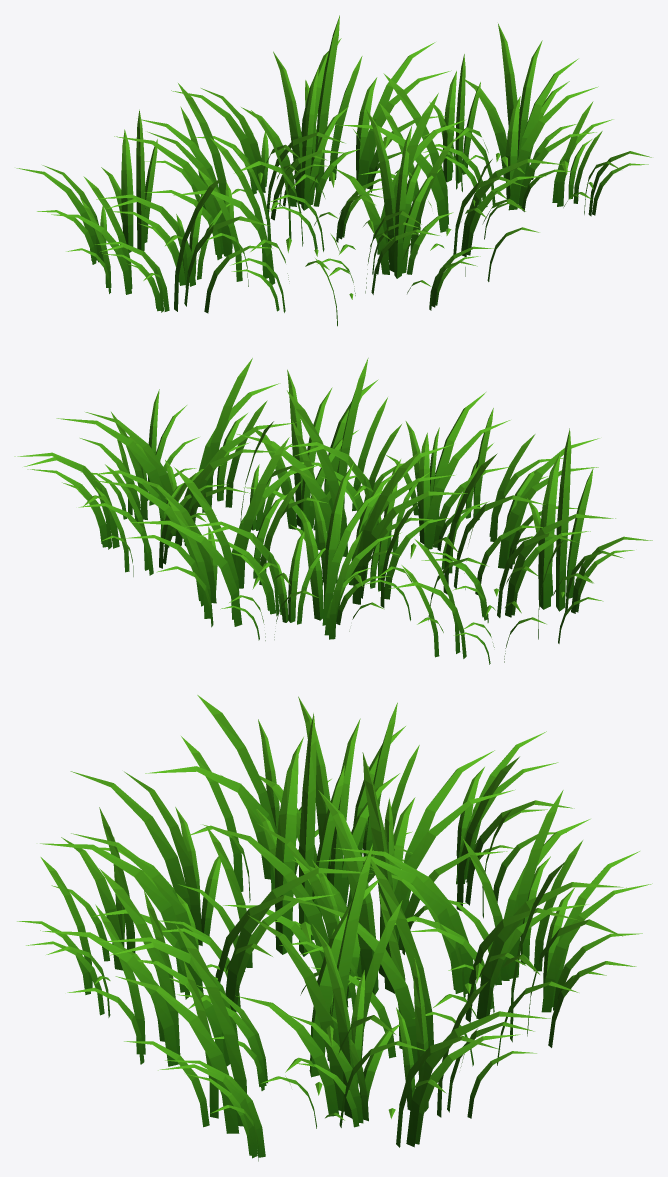
Rendered from stylized_grass.glb.
3 renders of one model, top to bottom at view 1: azimuth 30°, elevation 25°; view 2: azimuth 150°, elevation 25°; view 3: azimuth 270°, elevation 25°, orthographic. The views are drawn at different scales.
Parts seen in each view (by area): view 1: default 7, default 12, default 24, default 22, default 39, default 11, default 16, default 2, default 33, default 25, default 8, default 26 (+20 smaller); view 2: default 38, default 9, default, default 16, default 13, default 8, default 15, default 27, default 5, default 11, default 24, default 37 (+29 smaller); view 3: default 21, default 2, default 27, default 6, default 13, default 34, default 15, default 25, default 33, default 1, default, default 38 (+26 smaller).
Boxes of the visible parts, left/top/right/bottom form: default 7: left=334, top=109, right=453, bottom=278; default 12: left=241, top=51, right=360, bottom=210; default 24: left=505, top=58, right=598, bottom=211; default 22: left=465, top=23, right=576, bottom=179; default 39: left=101, top=109, right=157, bottom=252; default 11: left=356, top=42, right=451, bottom=192; default 16: left=301, top=15, right=362, bottom=191; default 2: left=173, top=137, right=275, bottom=286; default 33: left=114, top=131, right=234, bottom=259; default 25: left=336, top=73, right=448, bottom=232; default 8: left=377, top=93, right=466, bottom=259; default 26: left=434, top=54, right=480, bottom=183; default 38: left=527, top=428, right=593, bottom=611; default 9: left=300, top=462, right=401, bottom=625; default: left=418, top=392, right=510, bottom=551; default 16: left=131, top=467, right=242, bottom=627; default 13: left=352, top=452, right=467, bottom=607; default 8: left=237, top=390, right=347, bottom=562; default 15: left=232, top=437, right=320, bottom=588; default 27: left=198, top=358, right=280, bottom=512; default 5: left=252, top=369, right=364, bottom=531; default 11: left=93, top=475, right=217, bottom=606; default 24: left=56, top=412, right=176, bottom=535; default 37: left=494, top=514, right=615, bottom=617; default 21: left=235, top=915, right=399, bottom=1118; default 2: left=256, top=713, right=344, bottom=956; default 27: left=115, top=925, right=246, bottom=1133; default 6: left=40, top=868, right=180, bottom=1066; default 13: left=292, top=752, right=395, bottom=994; default 34: left=70, top=771, right=220, bottom=945; default 15: left=309, top=859, right=433, bottom=1064; default 25: left=309, top=843, right=402, bottom=1077; default 33: left=393, top=750, right=515, bottom=954; default 1: left=202, top=823, right=360, bottom=1007; default: left=40, top=833, right=203, bottom=999; default 38: left=145, top=695, right=277, bottom=902.
Bounding box in the file's own units: 2.58 × 0.6903 × 1.93.
Materials: 1 (1 with a texture image).
